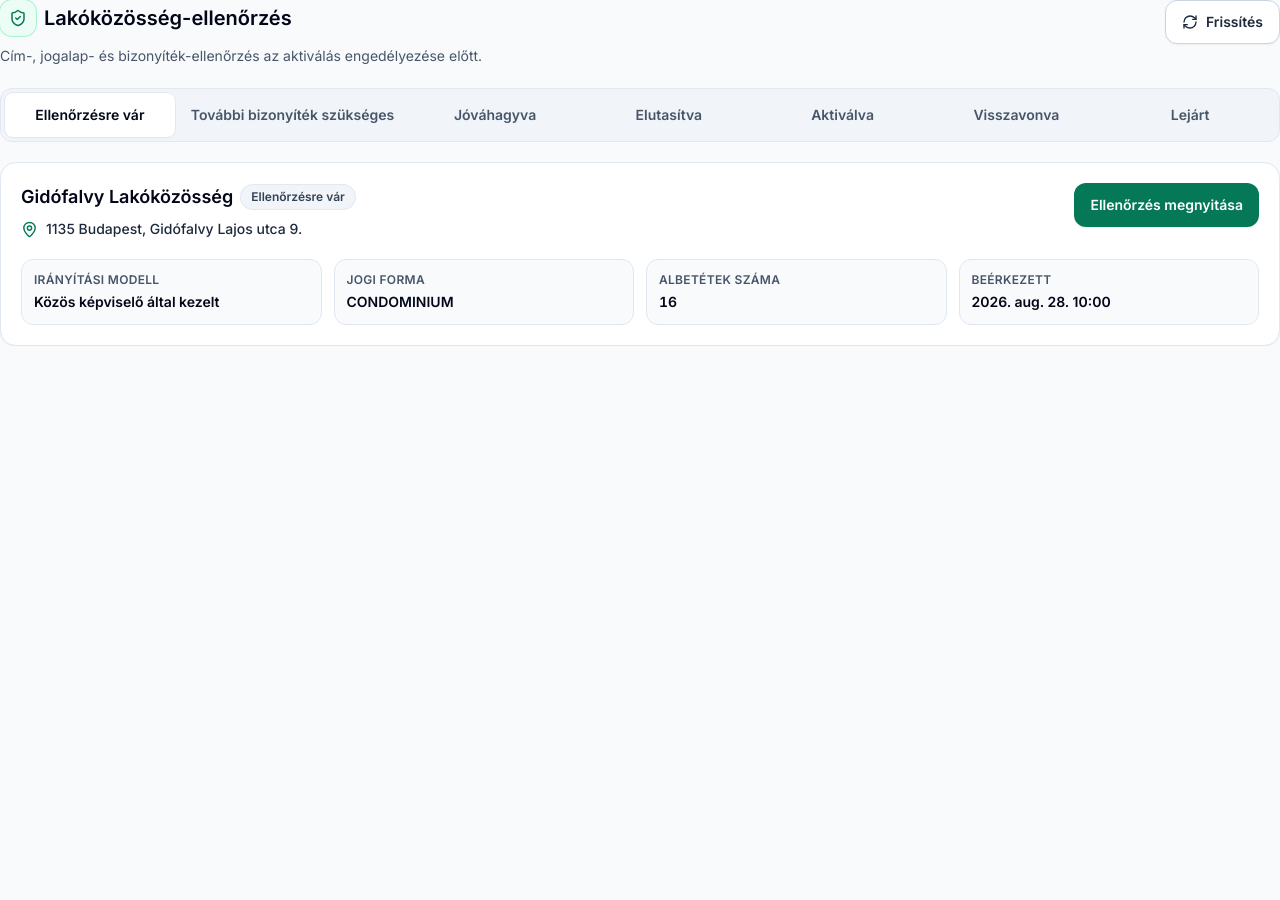
Test: SuperadminCommunityRequests › shows the exact review subject and the separate claimant MFA activation warning before approval
Check: the heading "Gidófalvy Lakóközösség" is shown, box x1=21 y1=183 x2=233 y2=211
Click the button "Ellenőrzés megnyitása".
click(1167, 205)  # box x1=1074 y1=183 x2=1259 y2=227
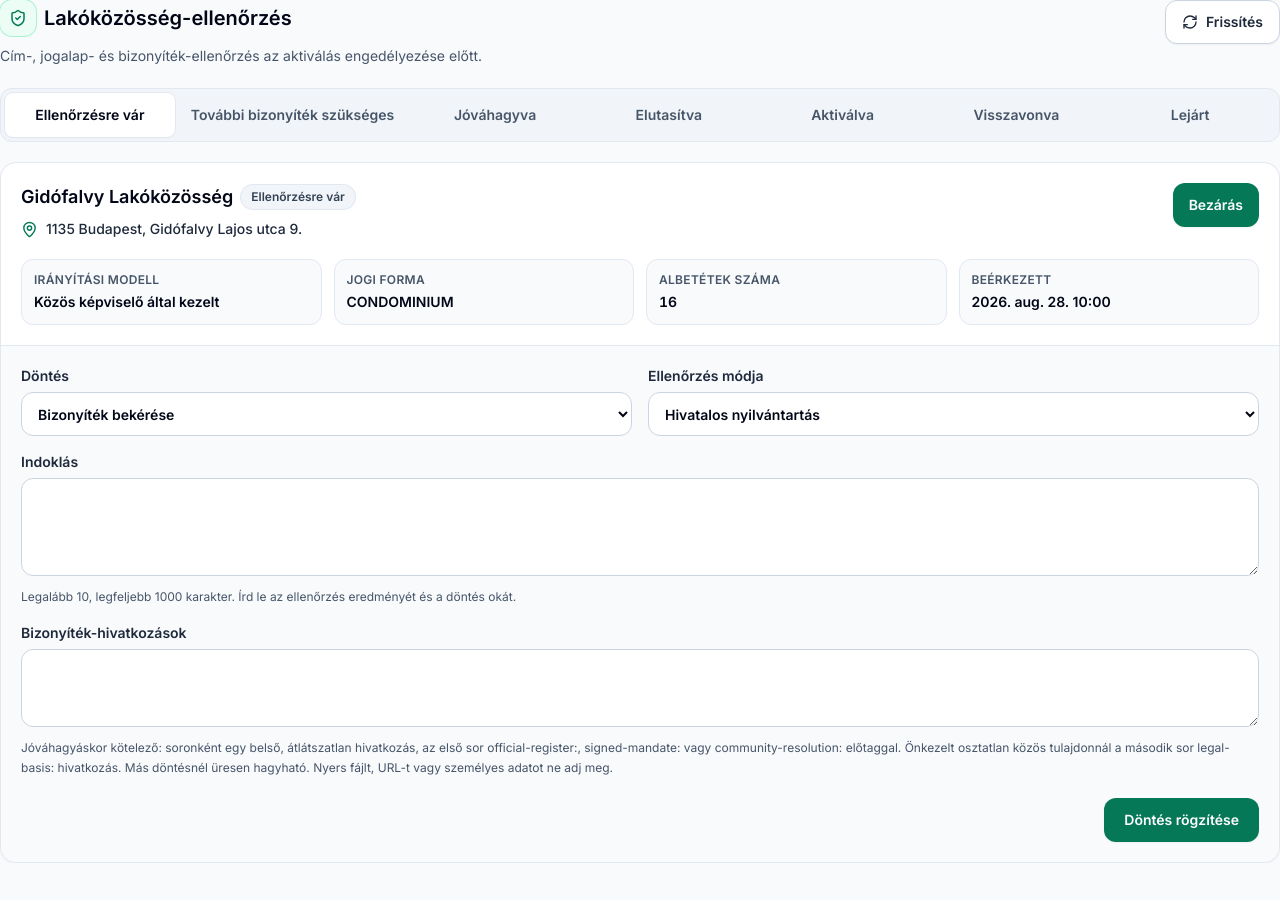
Select "Jóváhagyás" in the dropdown labelled "Döntés" at (326, 414), box x1=21 y1=392 x2=632 y2=436
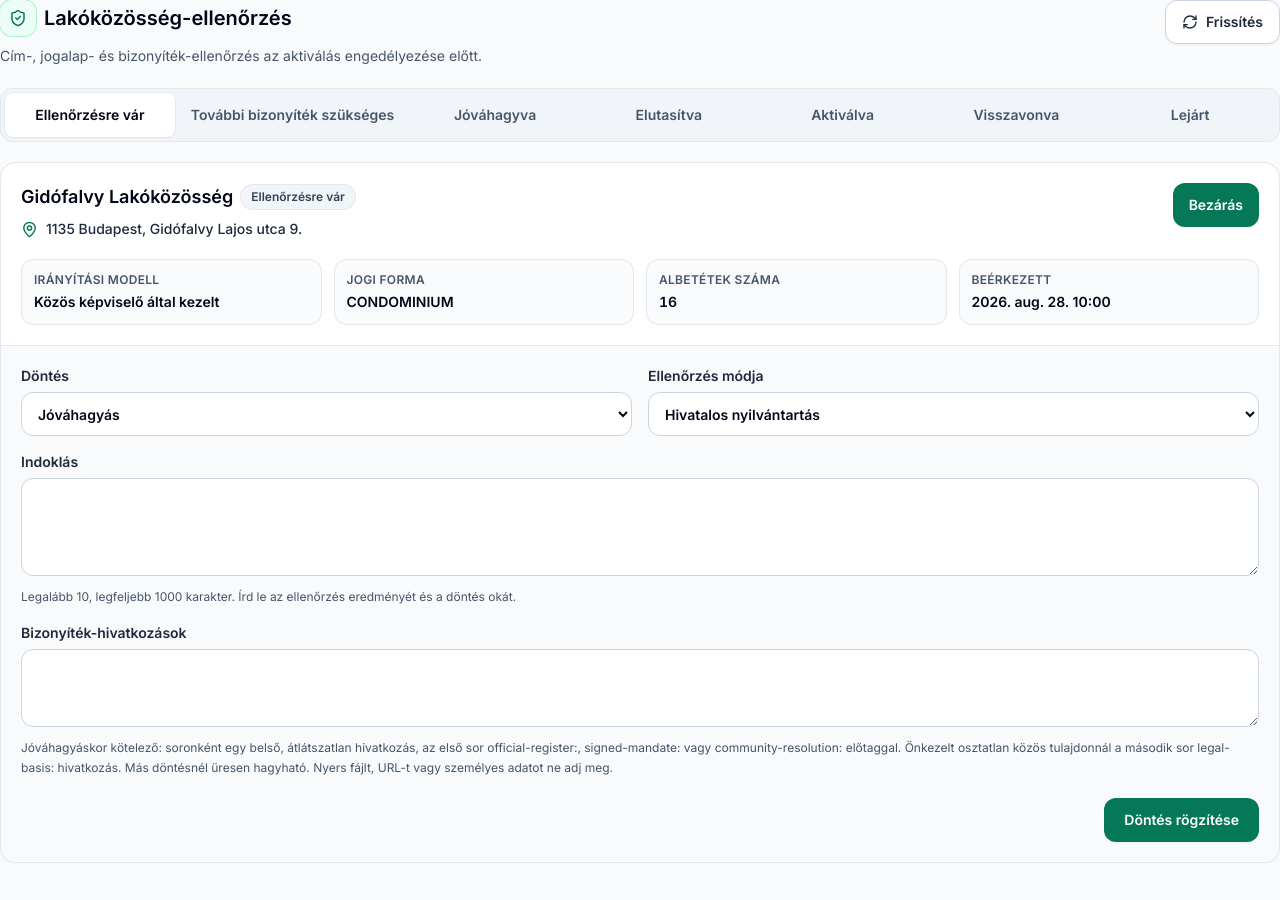
Type "A hivatalos nyilvántartás és a címadatok egyeznek." into the text box labelled "Indoklás".
click(640, 527); type("A hivatalos nyilvántartás és a címadatok egyeznek.")  # box x1=21 y1=478 x2=1259 y2=576
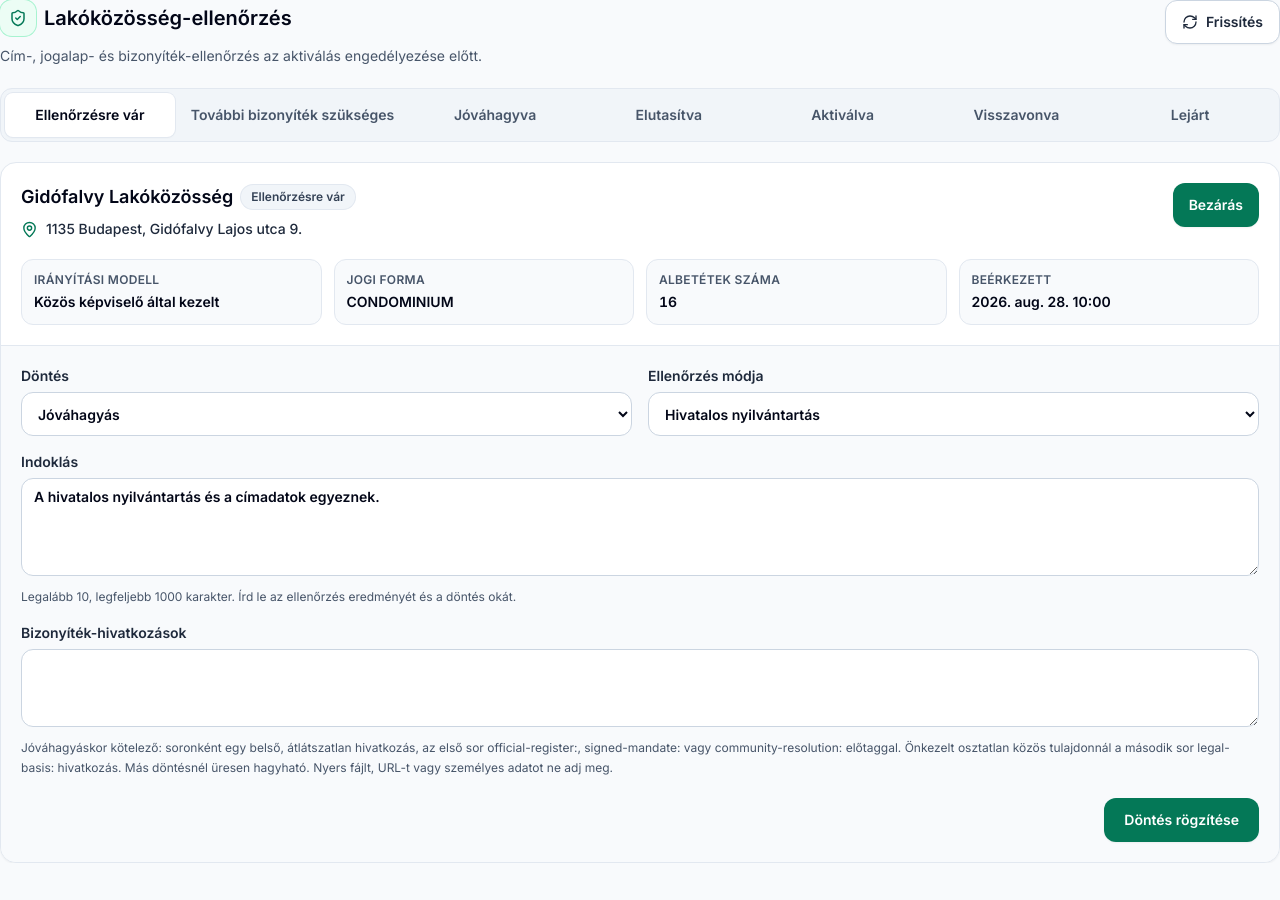
Type "official-register:KCR-2026-001" into the text box labelled "Bizonyíték-hivatkozások".
click(640, 688); type("official-register:KCR-2026-001")  # box x1=21 y1=649 x2=1259 y2=727
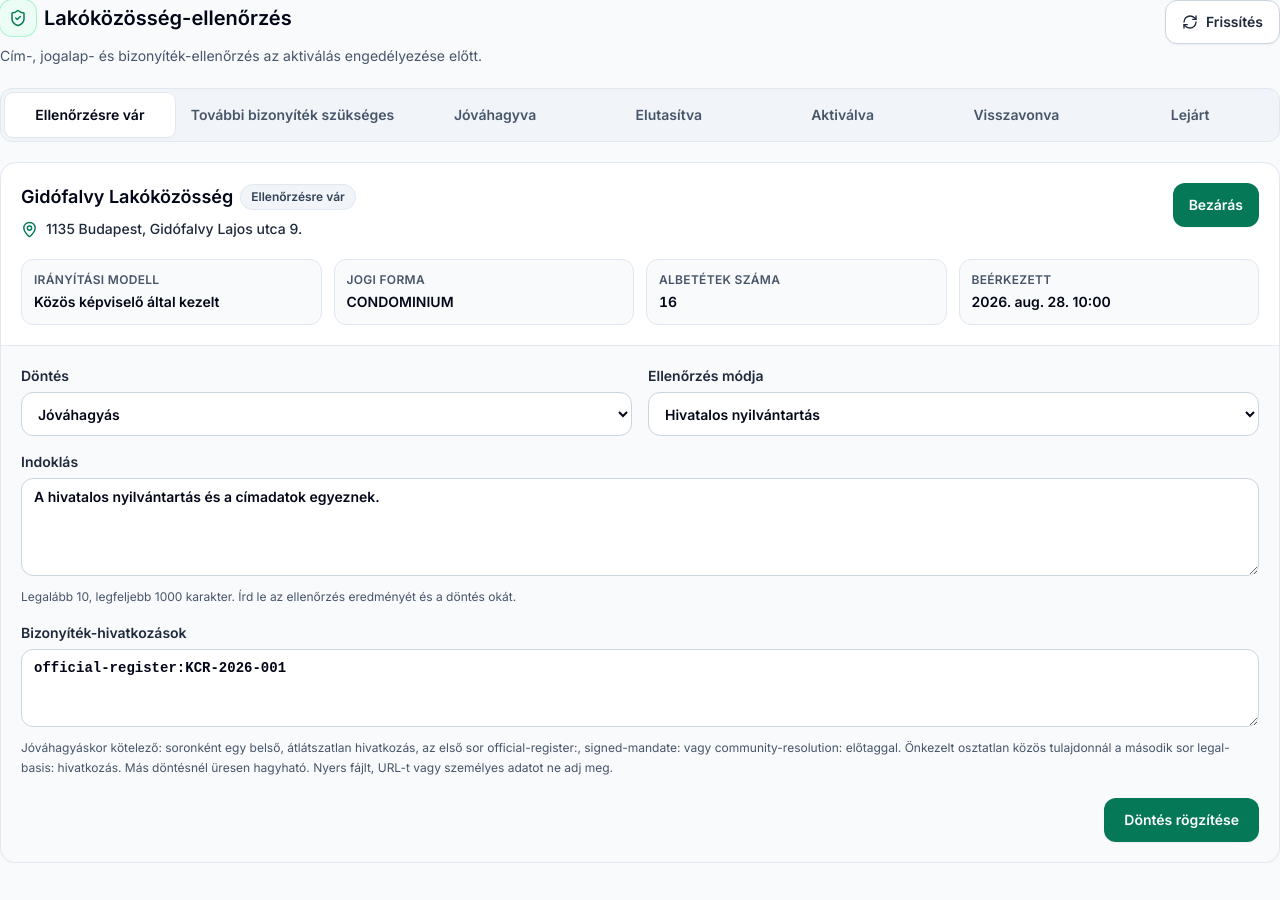
Click the button "Döntés rögzítése".
click(1182, 820)  # box x1=1104 y1=798 x2=1259 y2=842
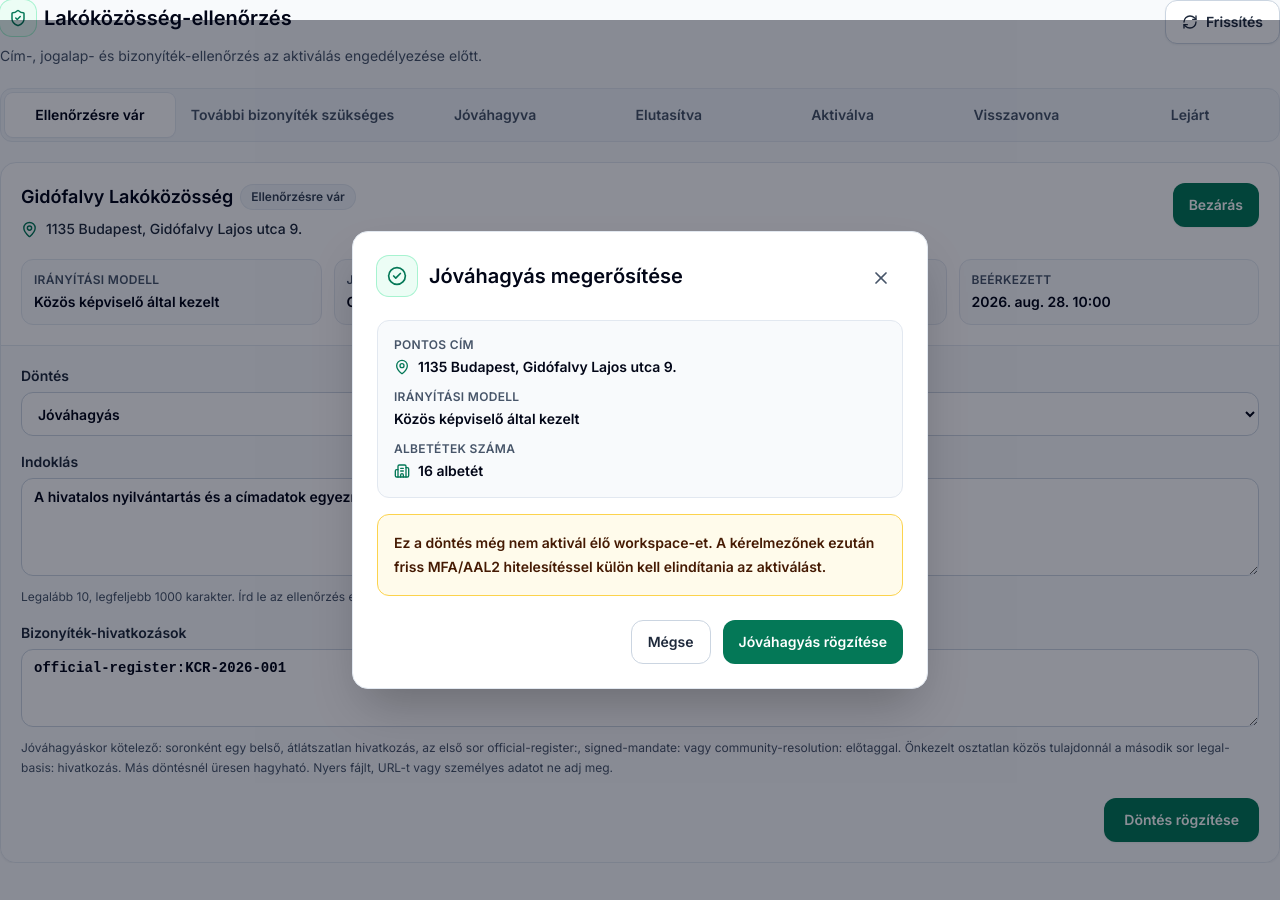
Check: the dialog shows "1135 Budapest, Gidófalvy Lajos utca 9.", box x1=418 y1=358 x2=677 y2=375
Check: the dialog shows "Közös képviselő által kezelt", box x1=394 y1=410 x2=580 y2=427
Check: the dialog shows "16 albetét", box x1=352 y1=231 x2=928 y2=689
